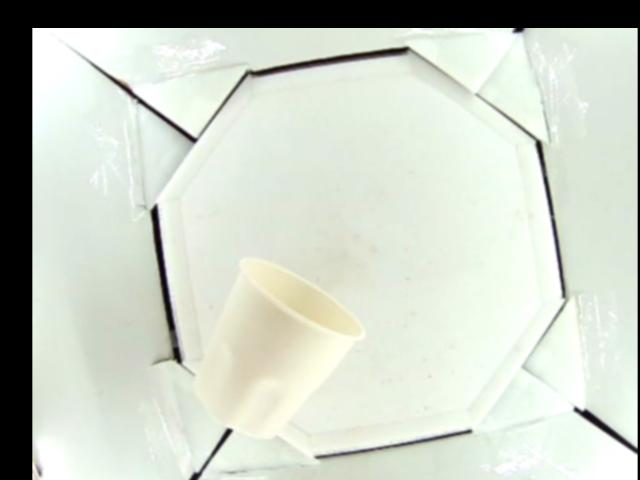Cup: (193, 255, 365, 434)
